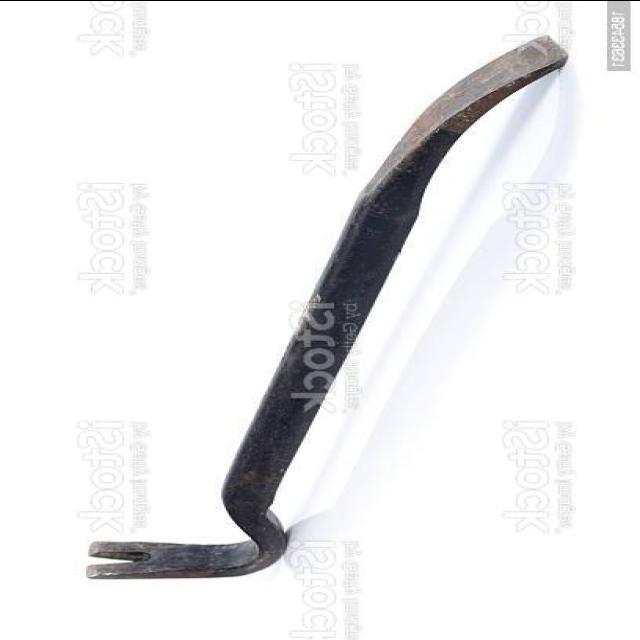Linggis: (87, 37, 576, 581)
